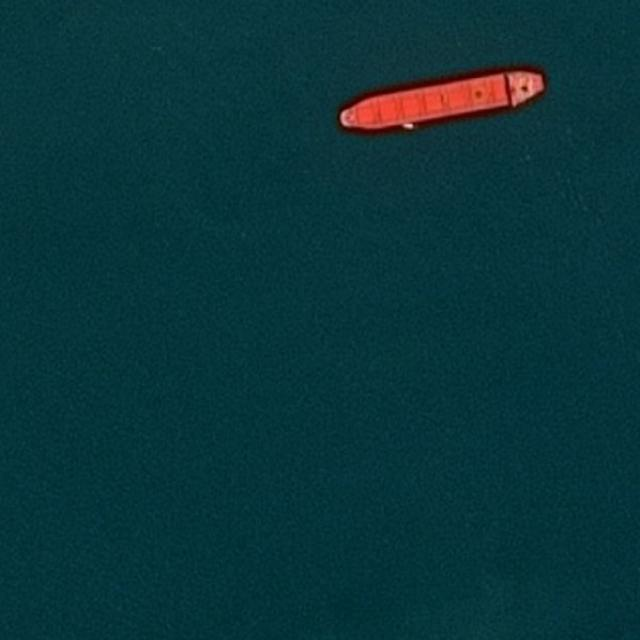Cargo: (331, 61, 554, 145)
